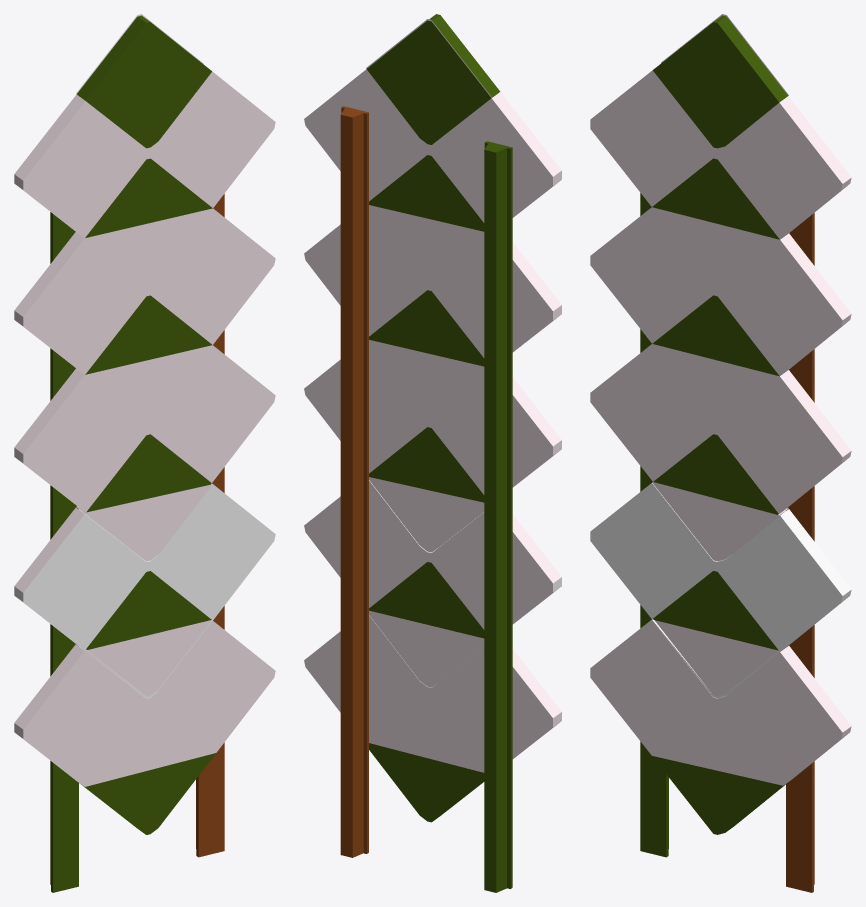
Rendered from flag1.fbx.
3 views of the same model, side by side, from view 1: azimuth 30°, elevation 25°; view 2: azimuth 150°, elevation 25°; view 3: azimuth 330°, elevation 25° (orthographic).
Parts seen in each view (by area): view 1: Group1; view 2: Group1; view 3: Group1.
Part boxes in pixels (bbox=[...]): Group1: bbox=[14, 14, 275, 892]; Group1: bbox=[304, 14, 561, 892]; Group1: bbox=[590, 14, 851, 892].
Size of the model in its own units: 858 by 2789 by 116.
